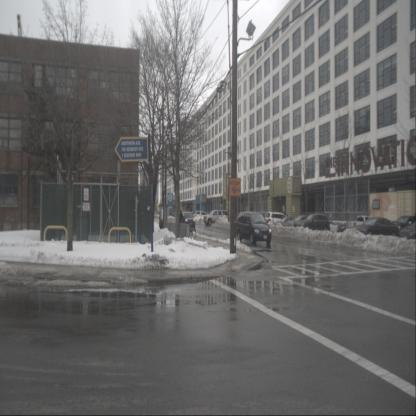human-pedestrian-adult: (180, 210, 186, 230)
vehicle-bicycle: (181, 218, 196, 240)
vehicle-car: (236, 212, 272, 245), (353, 218, 399, 242), (295, 214, 330, 232), (390, 215, 416, 236), (286, 216, 318, 232), (264, 212, 291, 229), (203, 210, 230, 226), (273, 217, 300, 230), (178, 211, 195, 230), (322, 220, 340, 235), (195, 211, 210, 221)
vehicle-truck: (346, 216, 377, 233)
